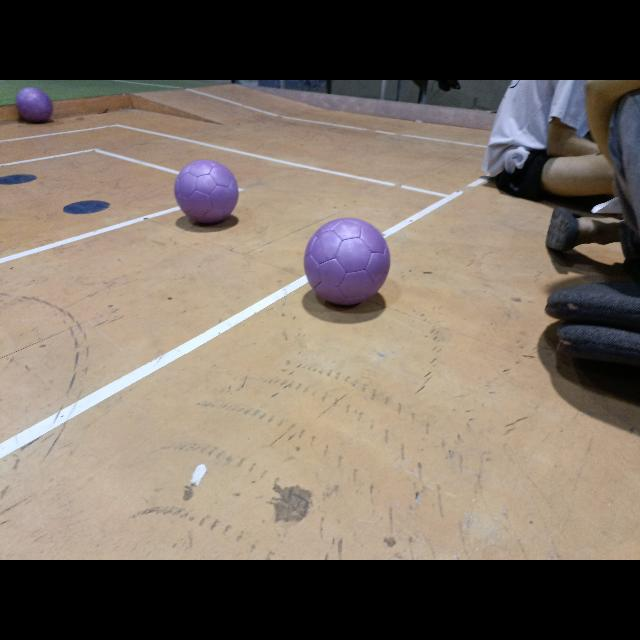P: (304, 218, 390, 304), (175, 160, 238, 224), (16, 88, 52, 122)
